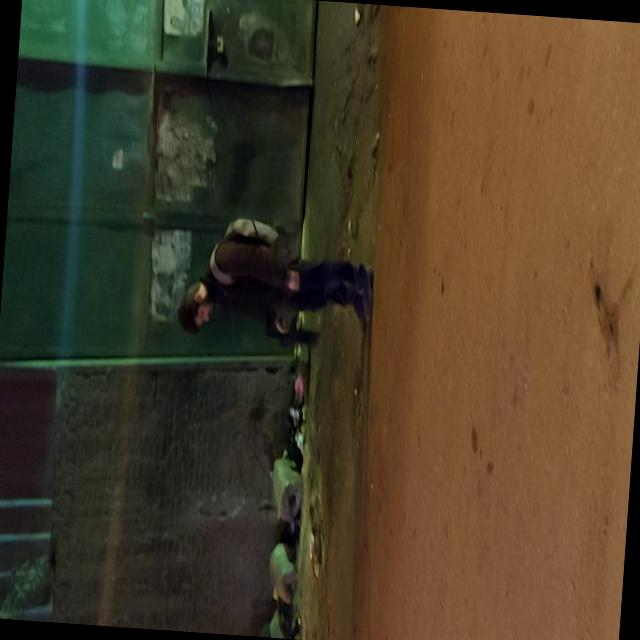long weapon: (257, 314, 332, 361)
